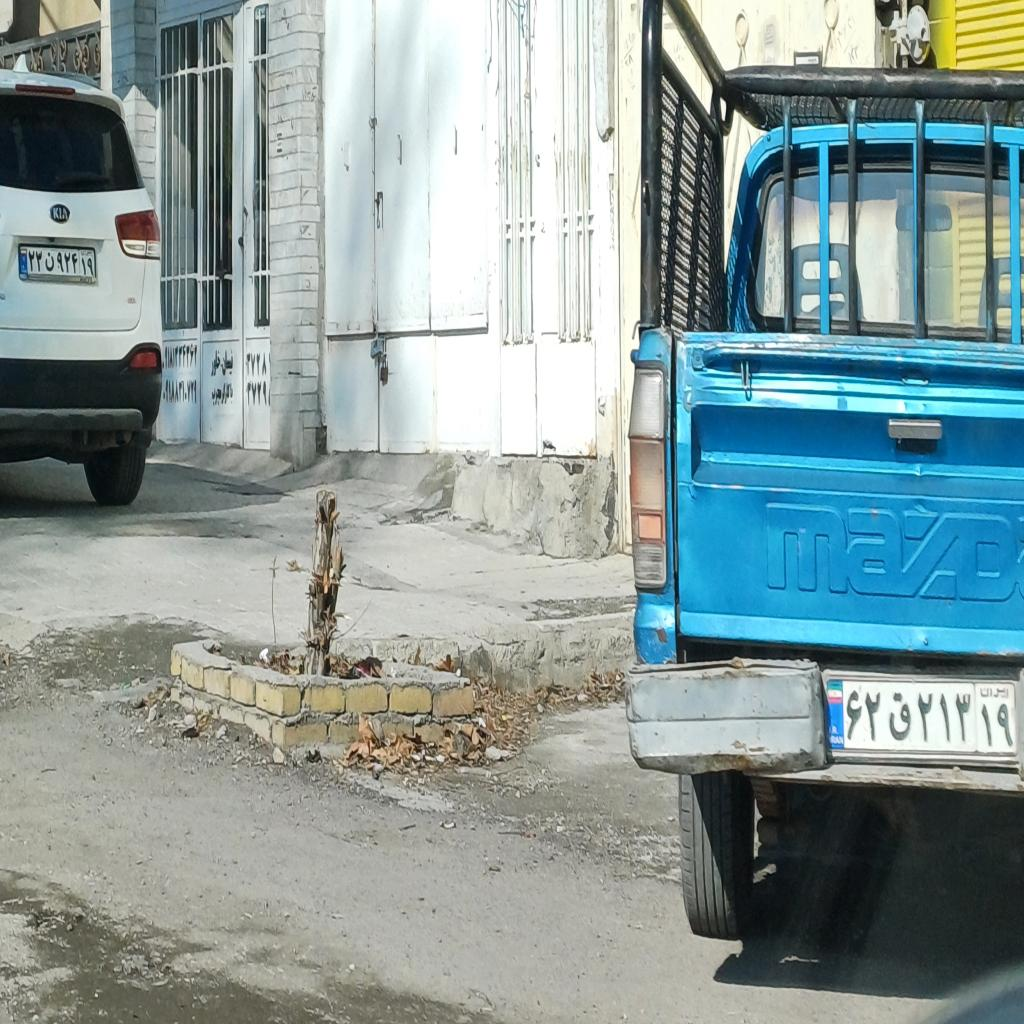Plates: (822, 674, 1020, 768), (17, 242, 97, 284)
